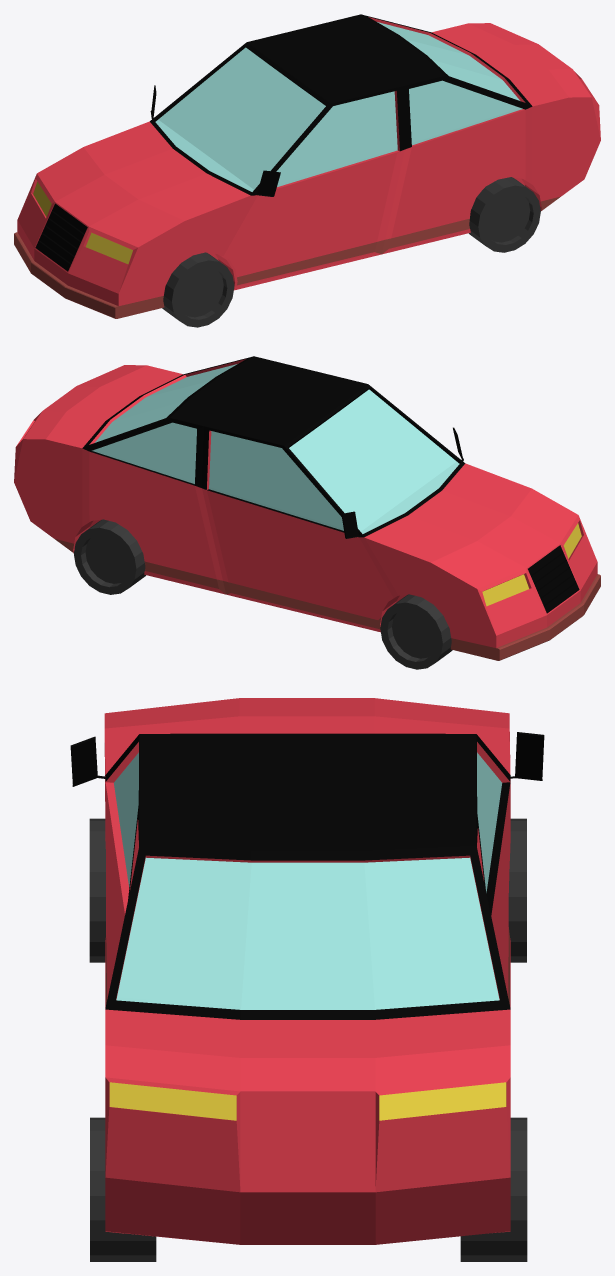
The picture shows the model from 3 angles, top to bottom: view 1: azimuth 30°, elevation 25°; view 2: azimuth 150°, elevation 25°; view 3: azimuth 270°, elevation 25°; orthographic projection. The views are drawn at different scales.
Parts seen in each view (by area): view 1: Cube, Cylinder.003, Cube.001; view 2: Cube, Cylinder.003, Cube.001; view 3: Cube, Cylinder.003.
Boxes of the visible parts, box(x1,y1,x2,y2) form: Cube: box(14, 14, 600, 318); Cylinder.003: box(162, 177, 540, 327); Cube.001: box(35, 203, 87, 271); Cube: box(14, 356, 600, 660); Cylinder.003: box(73, 519, 452, 669); Cube.001: box(528, 545, 579, 613); Cube: box(70, 698, 544, 1244); Cylinder.003: box(89, 818, 527, 1261).
Size of the model in its own units: 590 by 195 by 234.
